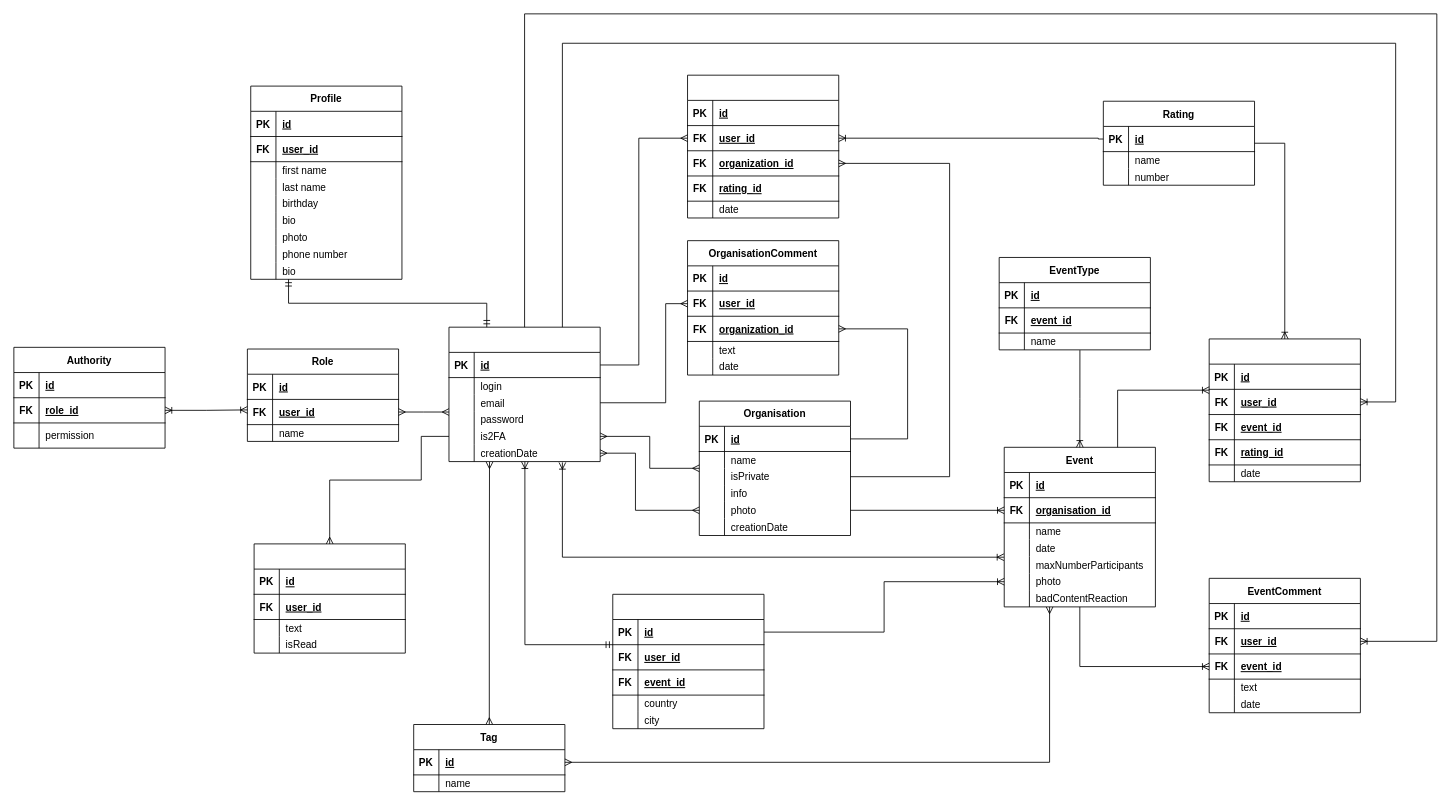
Some shapes in this 1451 by 806 pixel diagram are drawn without their labels. Each missing label, with the box of its shape:
EventReaction: (1208, 338, 1360, 482)
Location: (612, 593, 764, 729)
Notification: (253, 543, 405, 653)
OrganisationReaction: (687, 74, 839, 218)
User: (448, 326, 600, 462)
